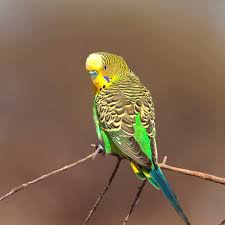budgie: (84, 51, 172, 200)
